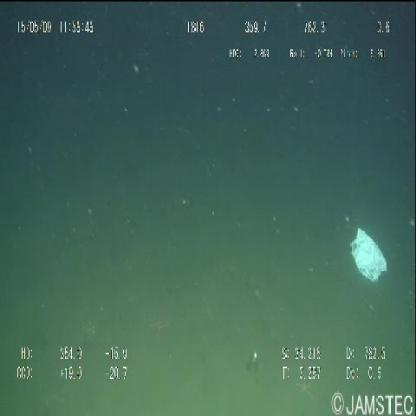Rác: (347, 219, 390, 288)
